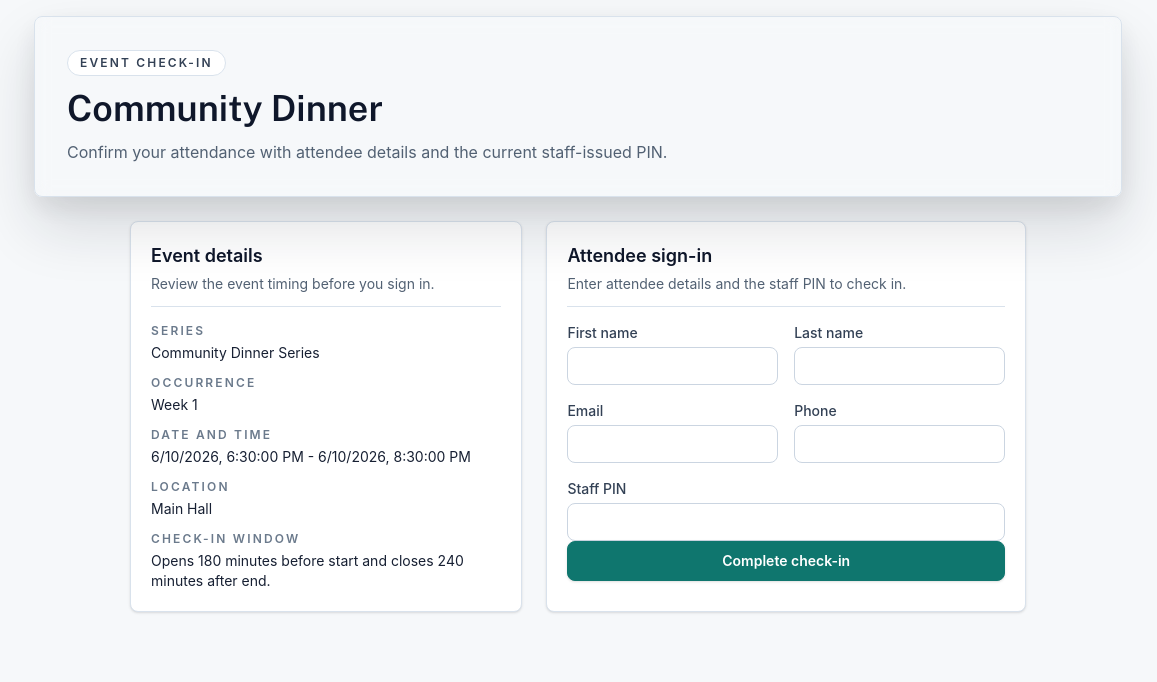
PublicEventCheckInPage › shows invalid PIN message when API returns INVALID_PIN
Expected: the heading "Community Dinner" is shown, [67,87,383,129]
Step 1. Type "Avery" into the field labelled "First name" → (673, 366), box [567,347,778,385]
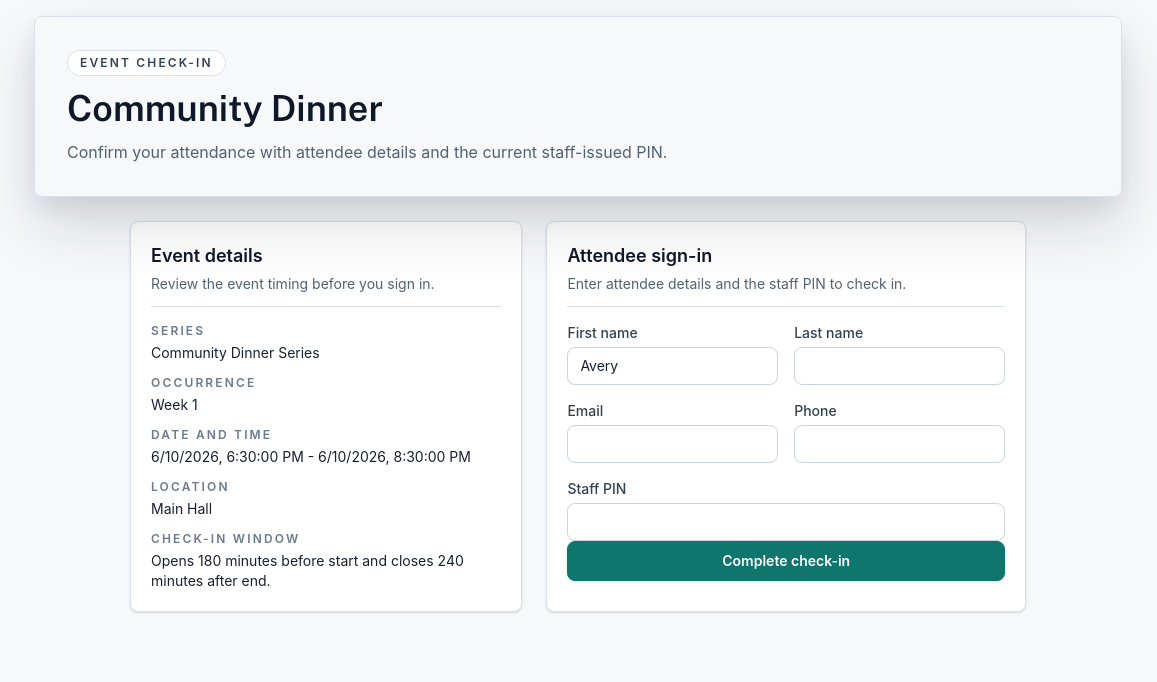
Step 2. Type "Client" into the field labelled "Last name" → (900, 366), box [794,347,1005,385]
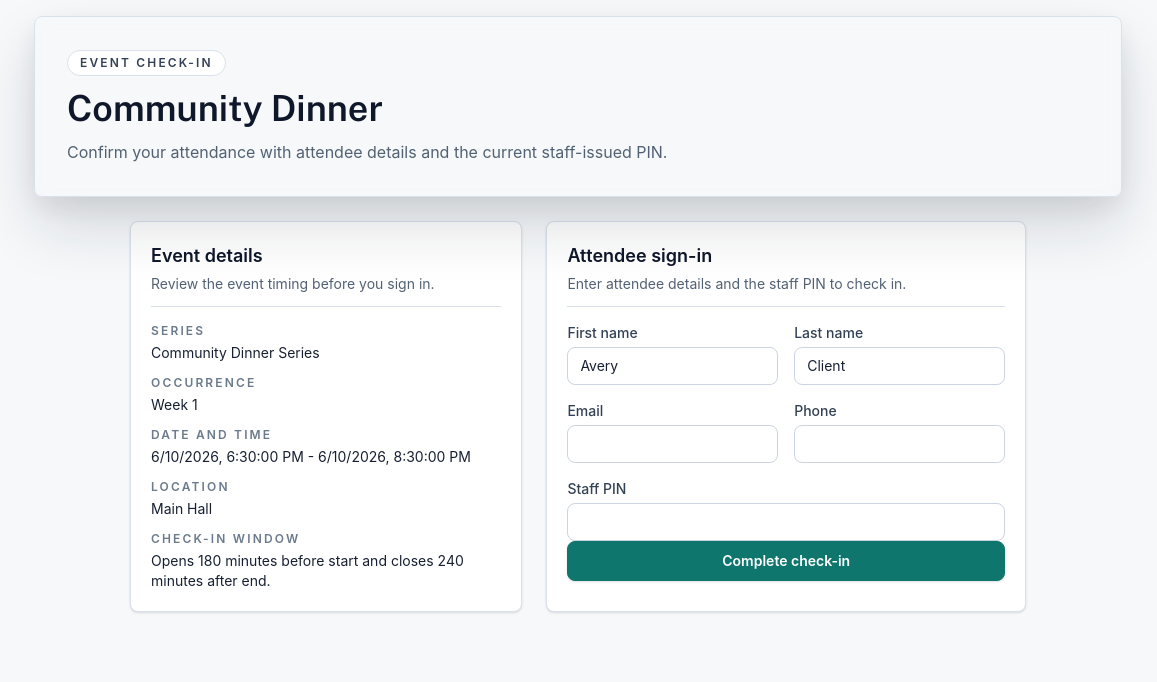
Step 3. Type "avery@example.com" into the field labelled "Email" → (673, 444), box [567,425,778,463]
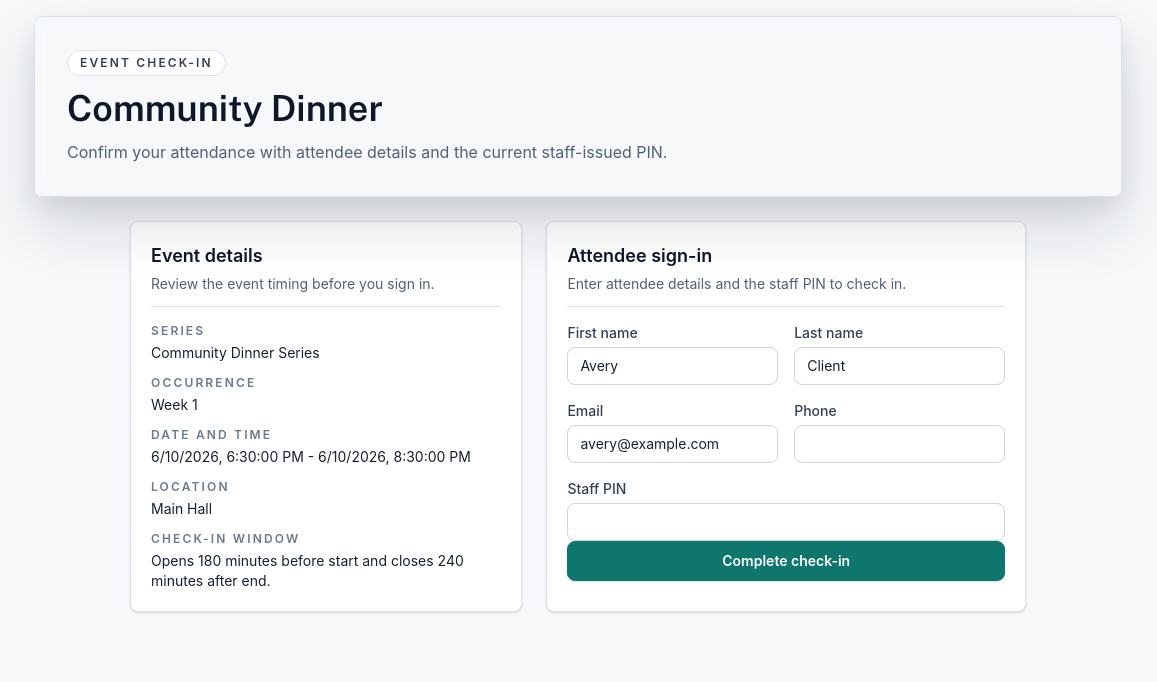
Step 4. Type "000000" into the password field labelled "Staff PIN" → (786, 522), box [567,503,1005,541]
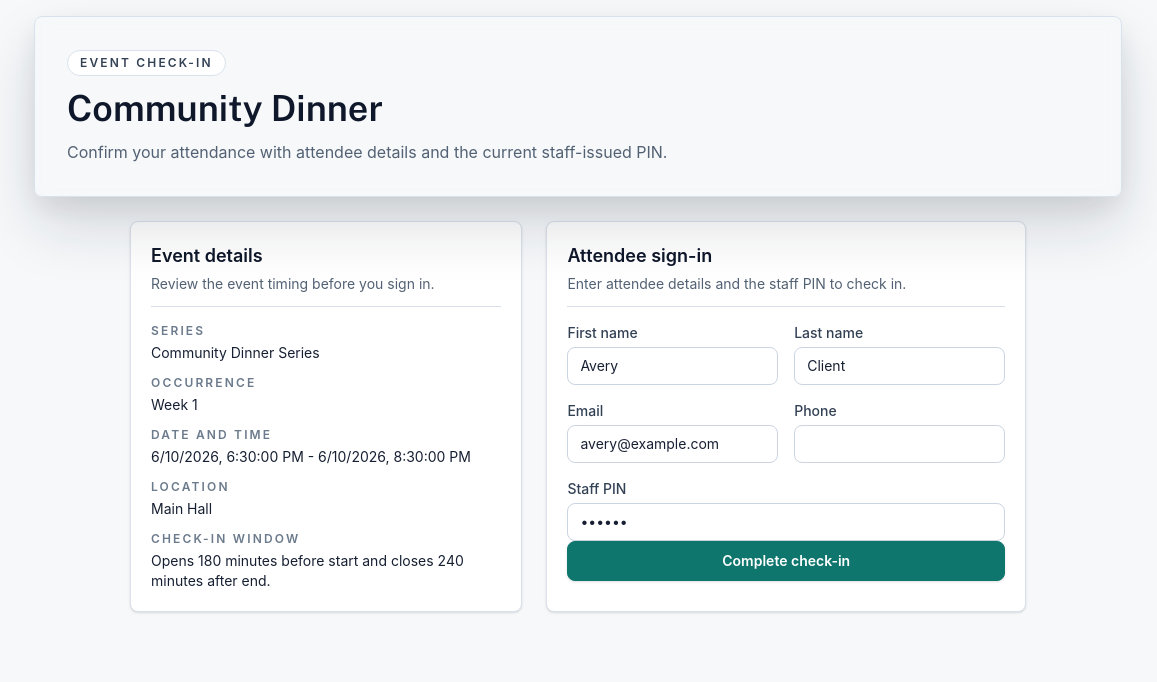
Step 5. Click the button "Complete check-in" → click(786, 561), box [567,541,1005,581]
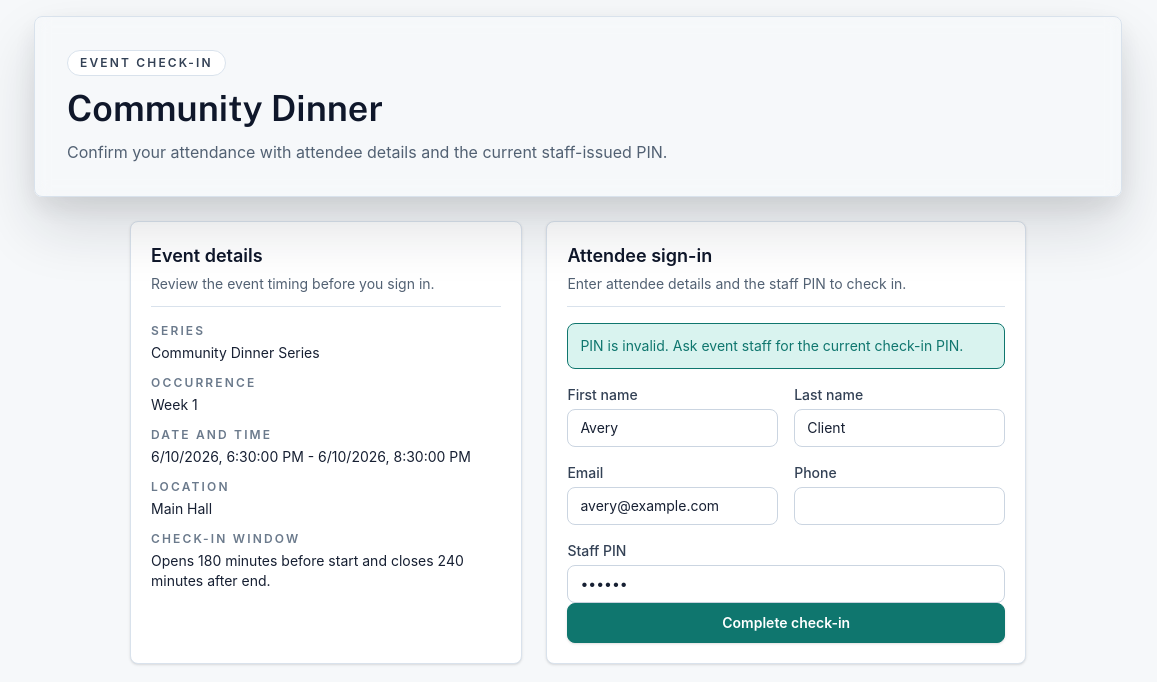
Expected: the text "PIN is invalid. Ask event staff for the current check-in PIN." is shown, [567,323,1005,369]
